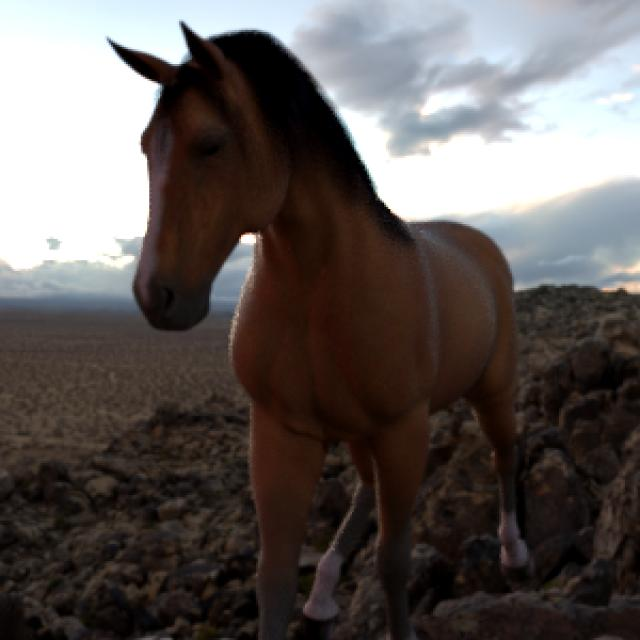horse: (111, 24, 531, 639)
